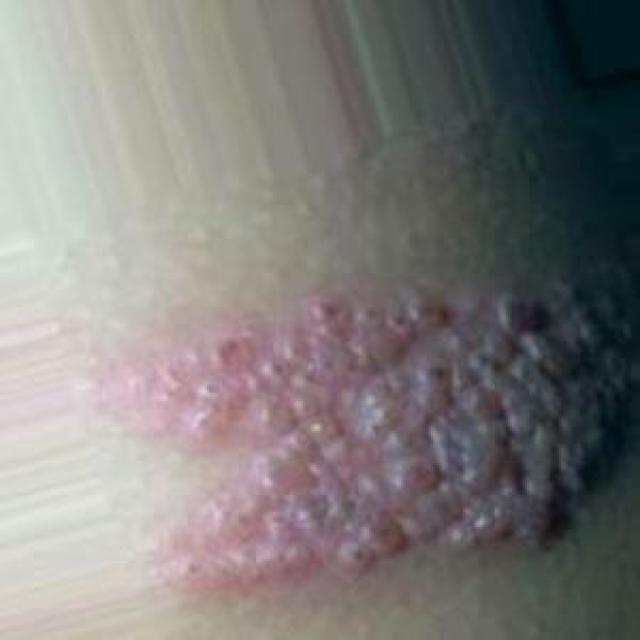Shingles: (138, 280, 640, 594)
